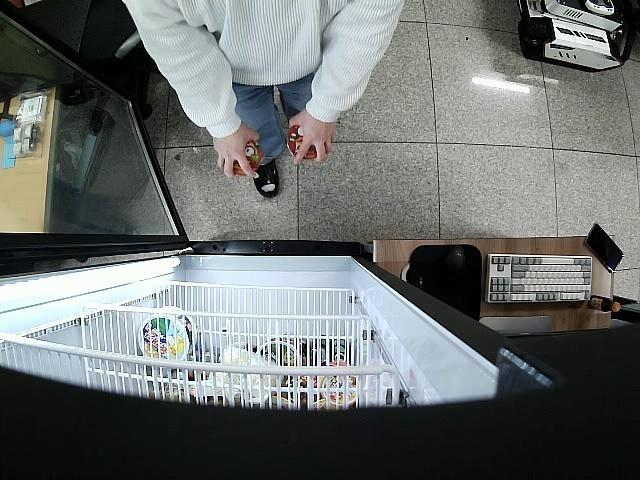06_nuguri_S: (287, 125, 327, 159), (228, 140, 264, 176)
